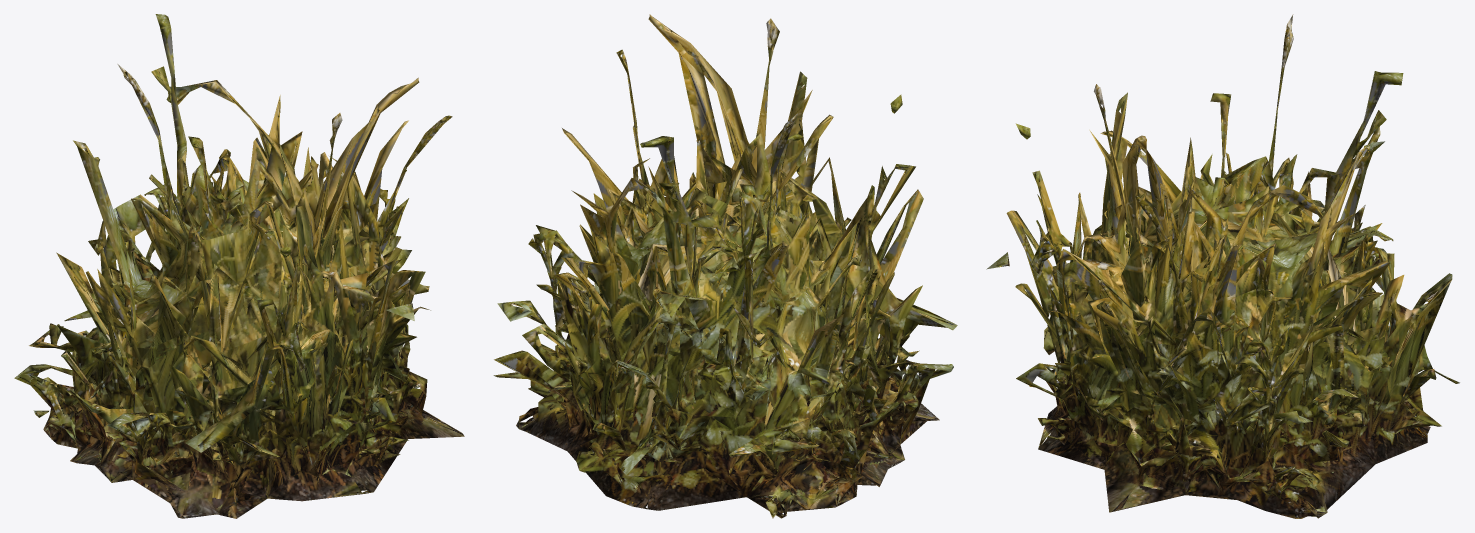
Rendered from Grass.fbx.
3 renders of one model, left to right at view 1: azimuth 30°, elevation 25°; view 2: azimuth 150°, elevation 25°; view 3: azimuth 270°, elevation 25°, orthographic.
Visible parts, largest first — view 1: texture_mapping; view 2: texture_mapping; view 3: texture_mapping.
Part boxes in pixels (bbox=[...]): texture_mapping: bbox=[14, 14, 464, 518]; texture_mapping: bbox=[493, 14, 957, 518]; texture_mapping: bbox=[986, 14, 1459, 518].
Bounding box in the file's own units: 0.8246 × 0.8746 × 0.7688.
1 material, 1 textured.
